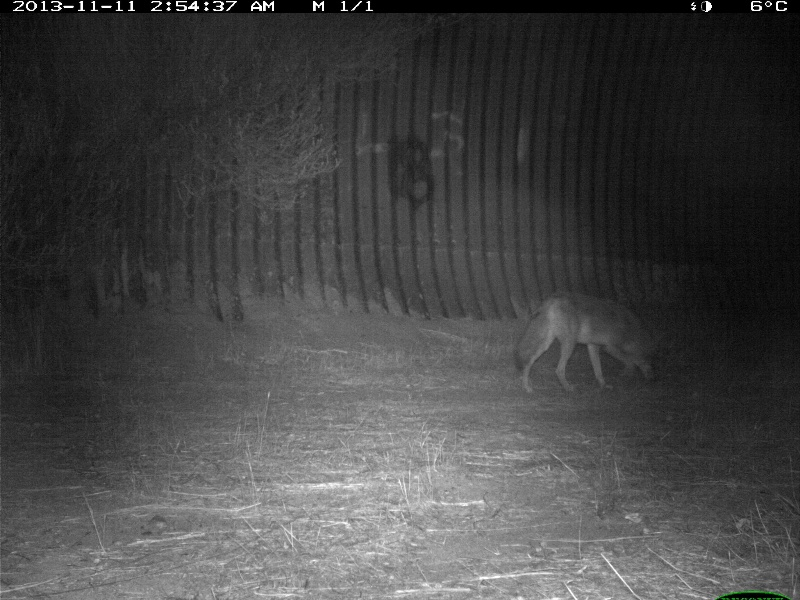coyote: (512, 291, 673, 398)
